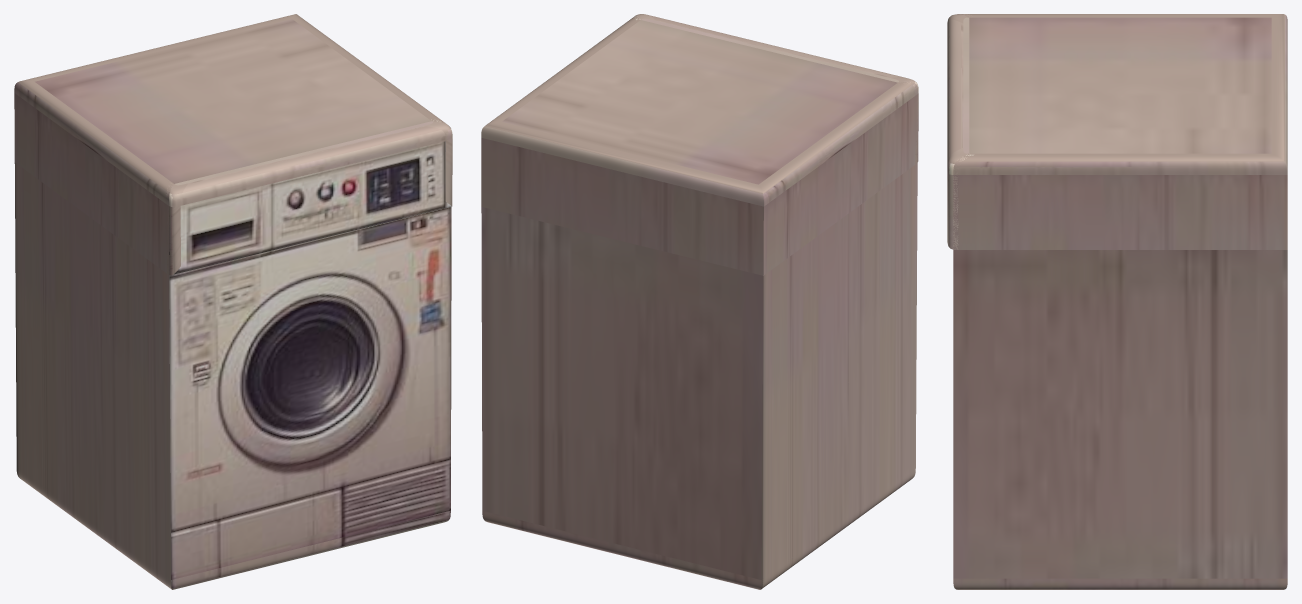
The model's file is laundrymachine.fbx.
The picture shows the model from 3 angles, left to right: view 1: azimuth 30°, elevation 25°; view 2: azimuth 150°, elevation 25°; view 3: azimuth 270°, elevation 25°; orthographic projection. The views are drawn at different scales.
Parts seen in each view (by area): view 1: Cube; view 2: Cube; view 3: Cube.
Part boxes in pixels (x1=…): Cube: x1=14, y1=14, x2=452, y2=589; Cube: x1=481, y1=14, x2=918, y2=589; Cube: x1=947, y1=14, x2=1287, y2=589.
Size of the model in its own units: 77.27 by 105 by 74.35.
